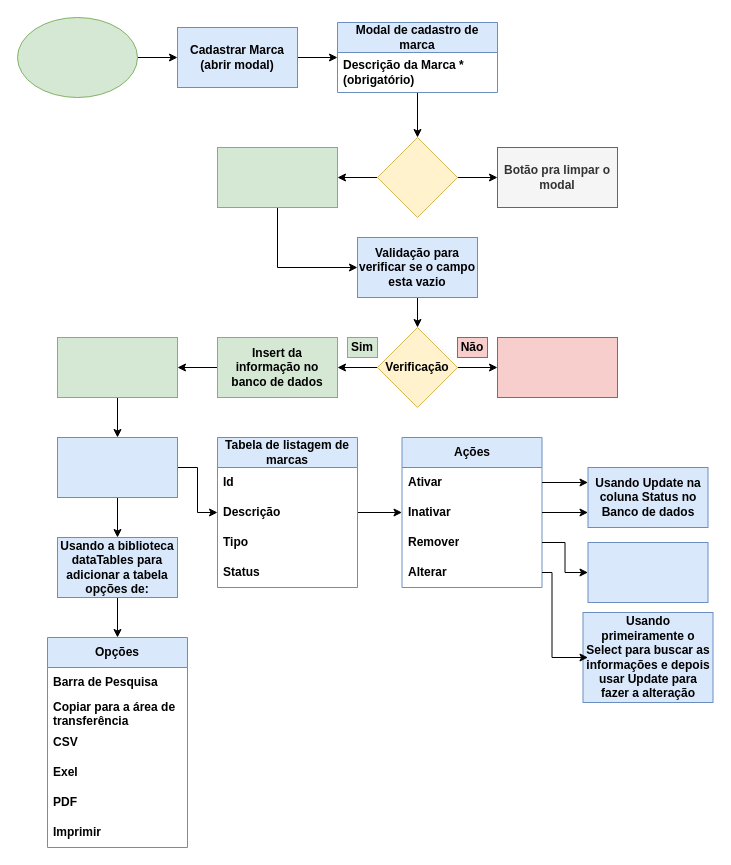
Some shapes in this 731 by 865 pixel diagram are drawn without their labels. Here are the shapes that lost their labels. From the top down, the centre of each, then its label:
(x=77, y=57): Inicio
(x=277, y=177): Botão para salvar as informações
(x=417, y=177): Botões
(x=117, y=367): Alerta de marca cadastrada
(x=557, y=367): Alerta informando para preencher o campo obrigatório
(x=117, y=467): Tela de listagem de marcas cadastradas
(x=647, y=572): Usando Delete na no Banco de dados
